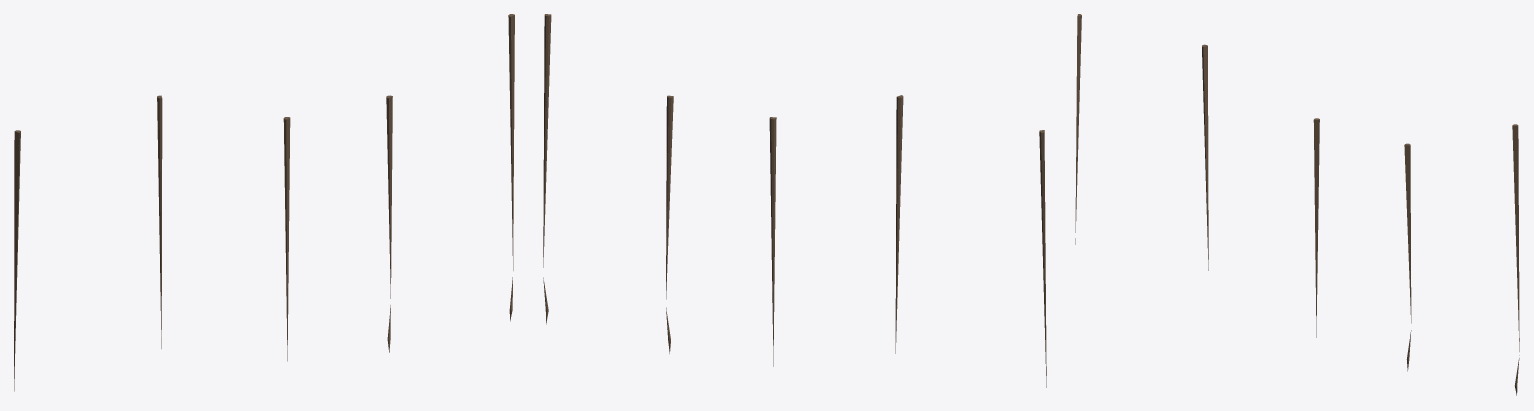
File: farm-tools.lod2.glb
3 views of the same model, side by side, from view 1: azimuth 30°, elevation 25°; view 2: azimuth 150°, elevation 25°; view 3: azimuth 330°, elevation 25° (orthographic). The views are drawn at different scales.
Visible parts, largest first — view 1: Object_4; view 2: Object_4; view 3: Object_4.
Boxes of the visible parts, box(x1,y1,x2,y2) form: Object_4: box(14, 14, 514, 391); Object_4: box(543, 14, 1046, 387); Object_4: box(1075, 14, 1519, 395).
Bounding box in the file's own units: 2.09 × 1.25 × 0.0265.
